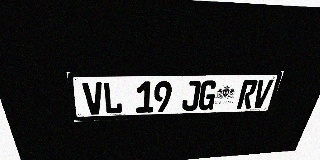1: (136, 81, 154, 113)
9: (154, 81, 172, 112)
G: (197, 80, 218, 110)
J: (181, 81, 201, 111)
L: (102, 82, 123, 114)
R: (236, 80, 259, 109)
V: (82, 82, 104, 115), (251, 80, 274, 108)
